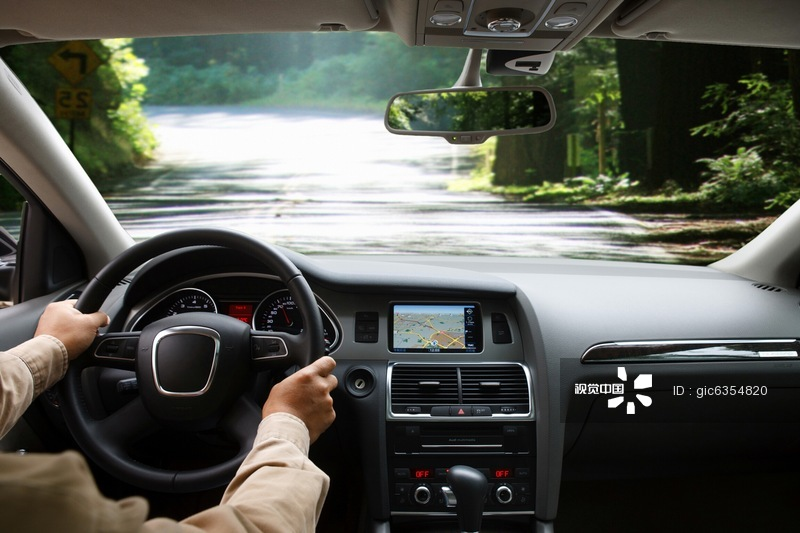no-phone: (252, 343, 355, 449), (22, 288, 117, 361)
